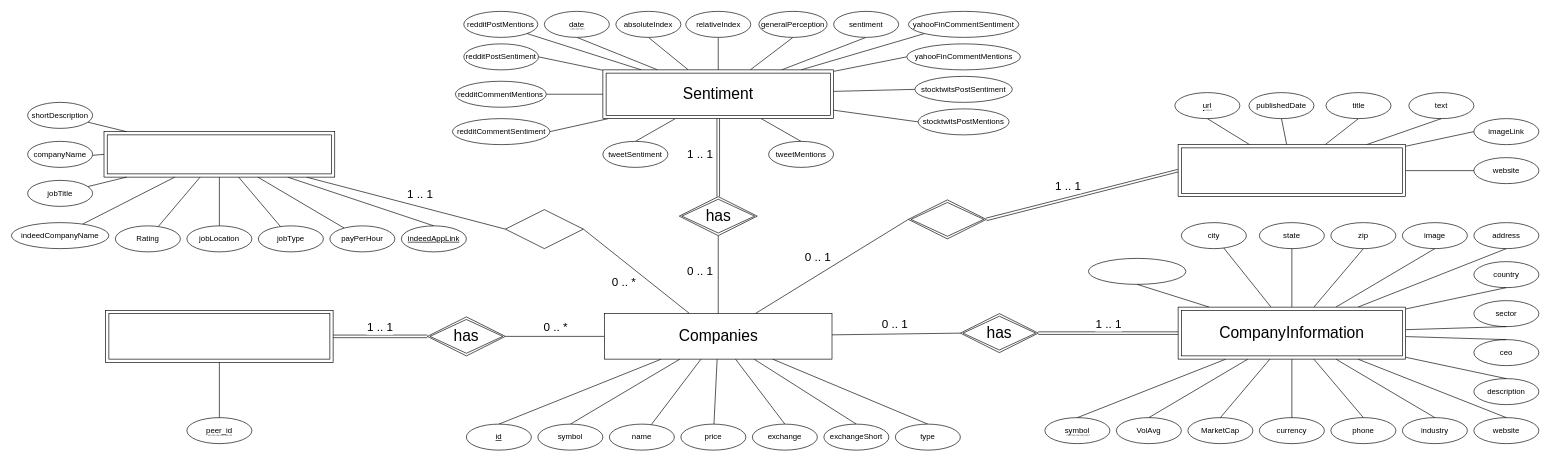
Some shapes in this 1550 by 461 pixel diagram are drawn without their labels. The shapes that lost their labels are listed below. From the top down, each one's centre as x and y in pixels, then its label:
the point at 219,154: Indeed
the point at 1291,170: CompanyNews
the point at 544,229: jobs
the point at 947,219: news
the point at 1137,271: fullTimeEmployees
the point at 219,336: Peers
